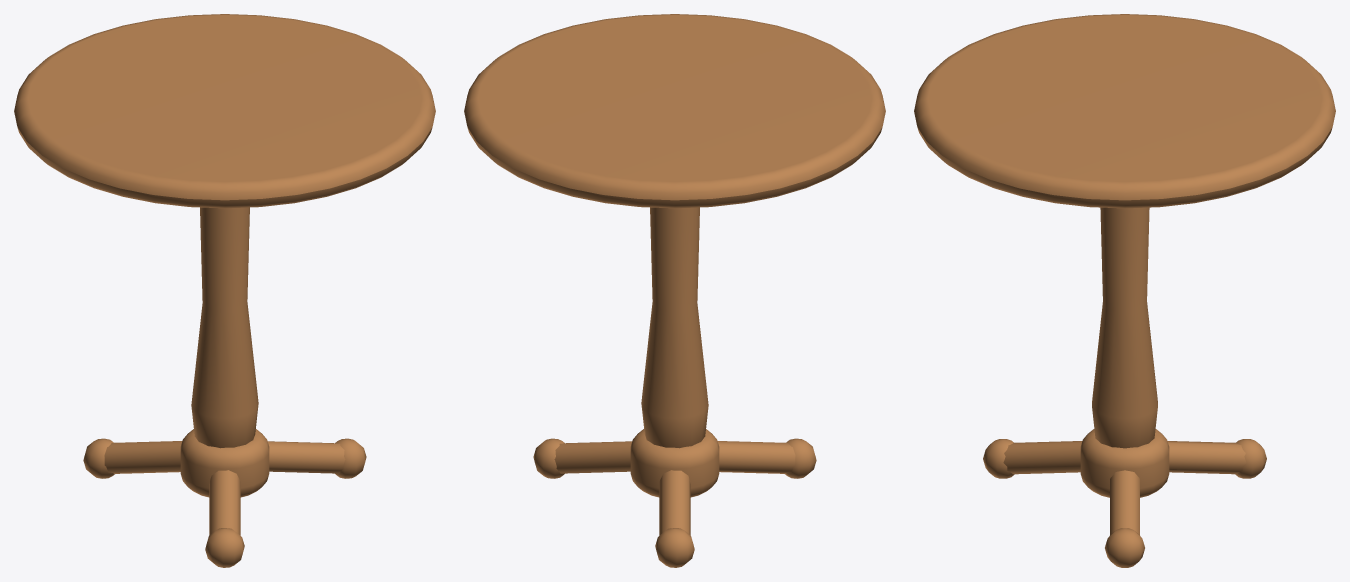
File: pedestal_side_table.glb
3 views of the same model, side by side, from view 1: azimuth 30°, elevation 25°; view 2: azimuth 150°, elevation 25°; view 3: azimuth 270°, elevation 25° (orthographic).
Parts seen in each view (by area): view 1: pedestal_side_table_mesh; view 2: pedestal_side_table_mesh; view 3: pedestal_side_table_mesh.
Part boxes in pixels (left/top/right/bottom): pedestal_side_table_mesh: left=14, top=14, right=435, bottom=567; pedestal_side_table_mesh: left=464, top=14, right=885, bottom=567; pedestal_side_table_mesh: left=914, top=14, right=1335, bottom=567.
Bounding box in the file's own units: 0.75 × 0.801 × 0.75.
